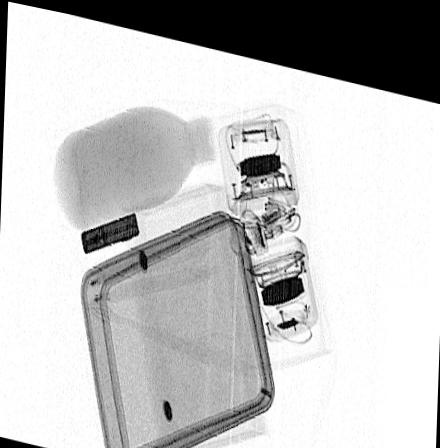Lighter: (80, 205, 139, 250)
